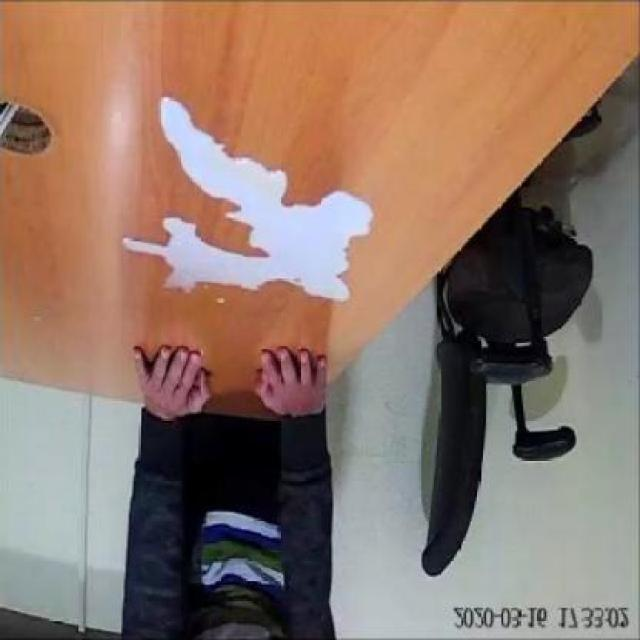spillage: (124, 96, 373, 299)
